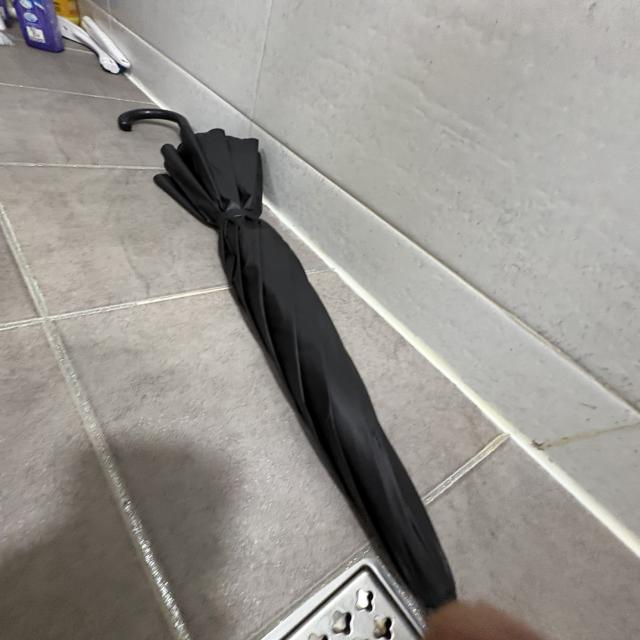umbrella: (119, 105, 461, 624)
